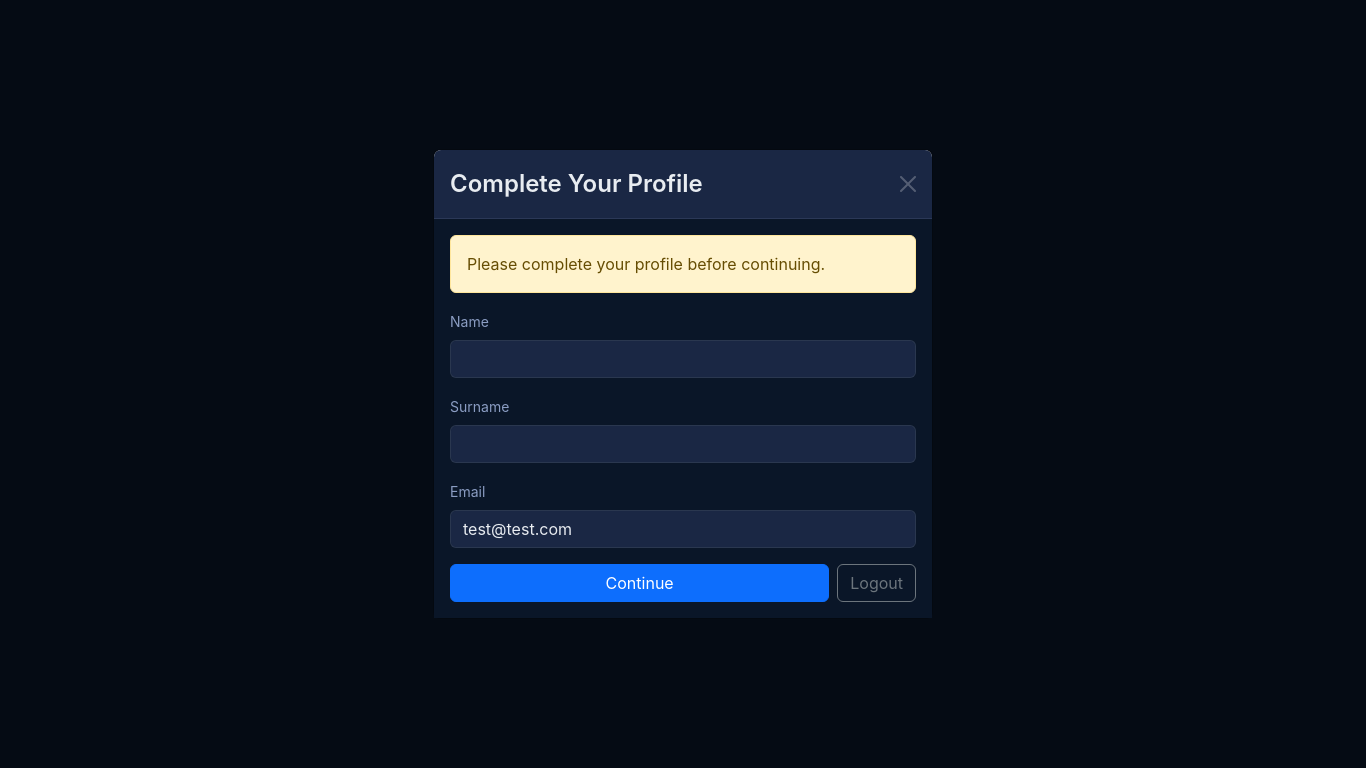
Test: AuthModal › completion mode › failed completion keeps modal open with error
Type "John" into the field labelled "Name". click: (683, 359)
box: top-left (450, 340), bottom-right (916, 378)
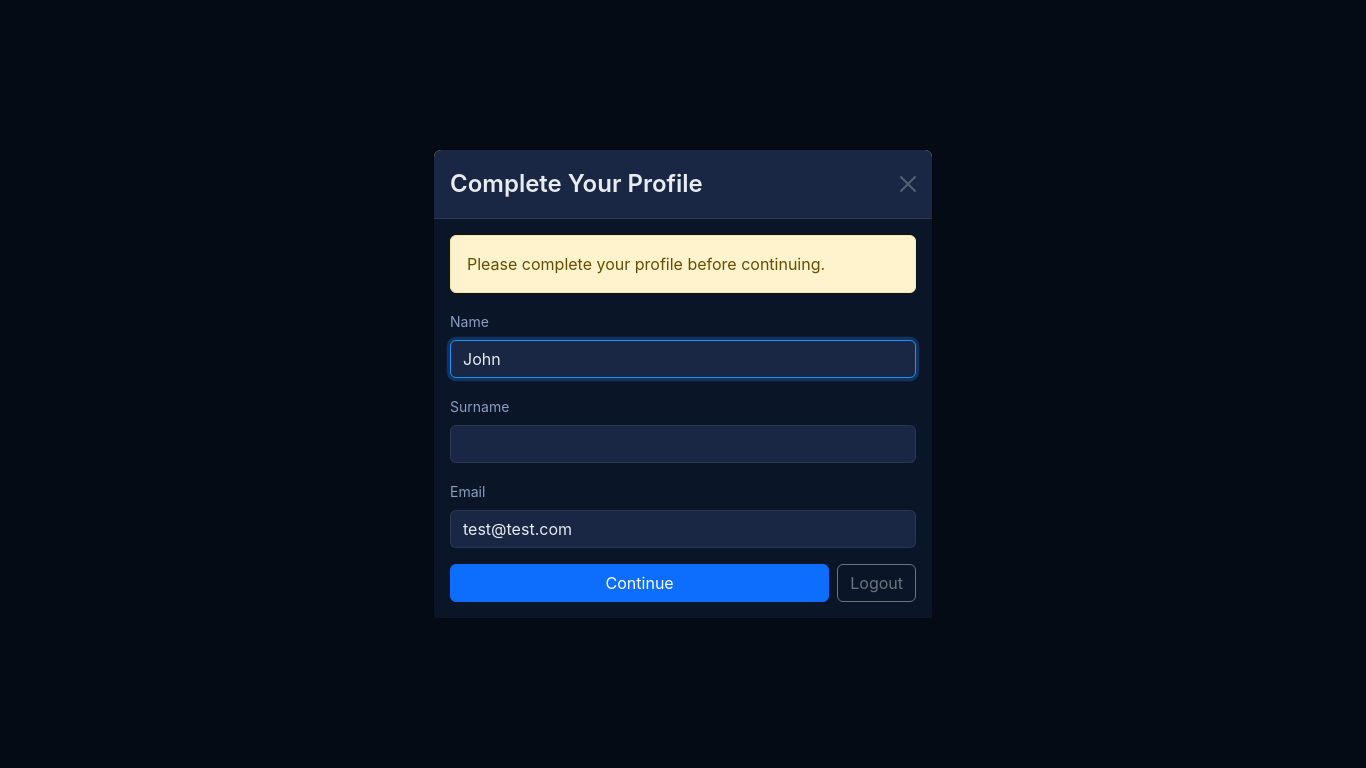
Type "Doe" into the field labelled "Surname". click: (683, 444)
box: top-left (450, 425), bottom-right (916, 463)
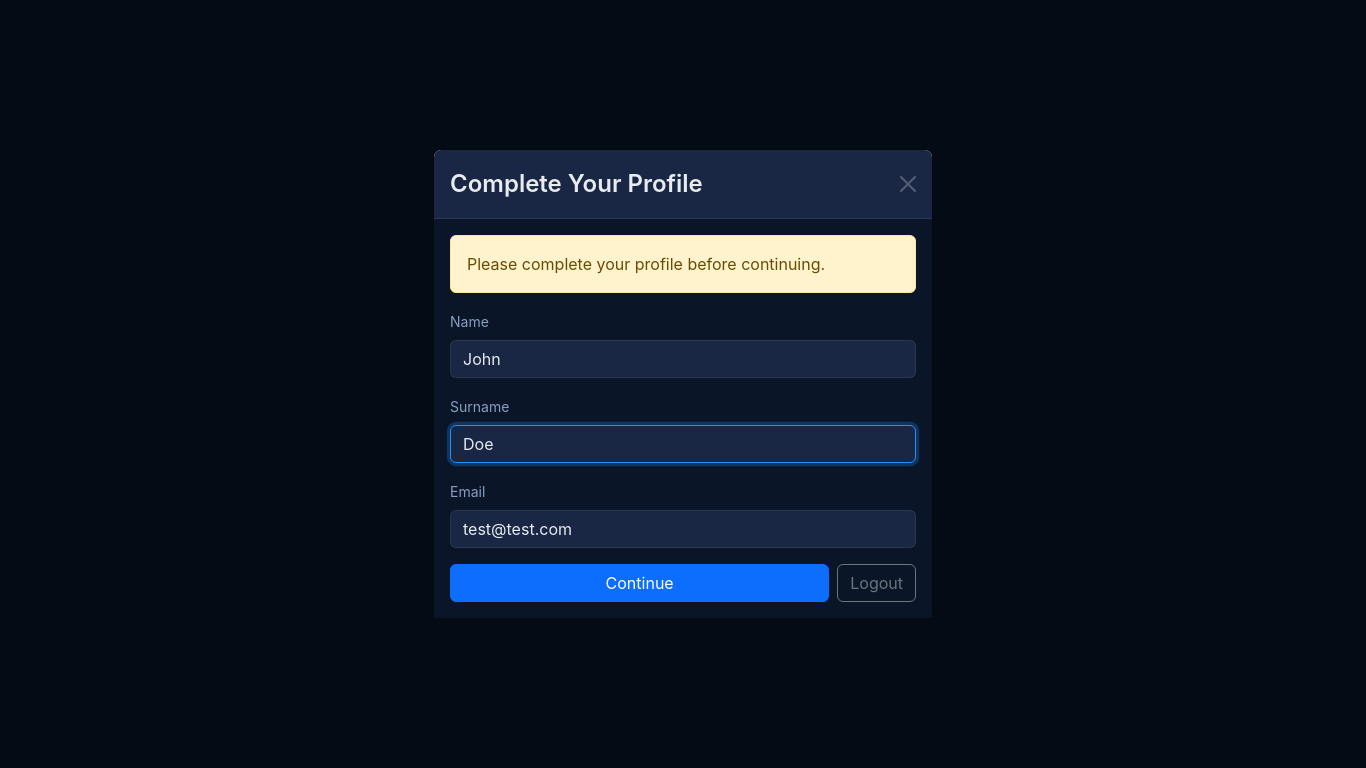
Click the button "Continue". click: (640, 583)
box: top-left (450, 564), bottom-right (829, 602)
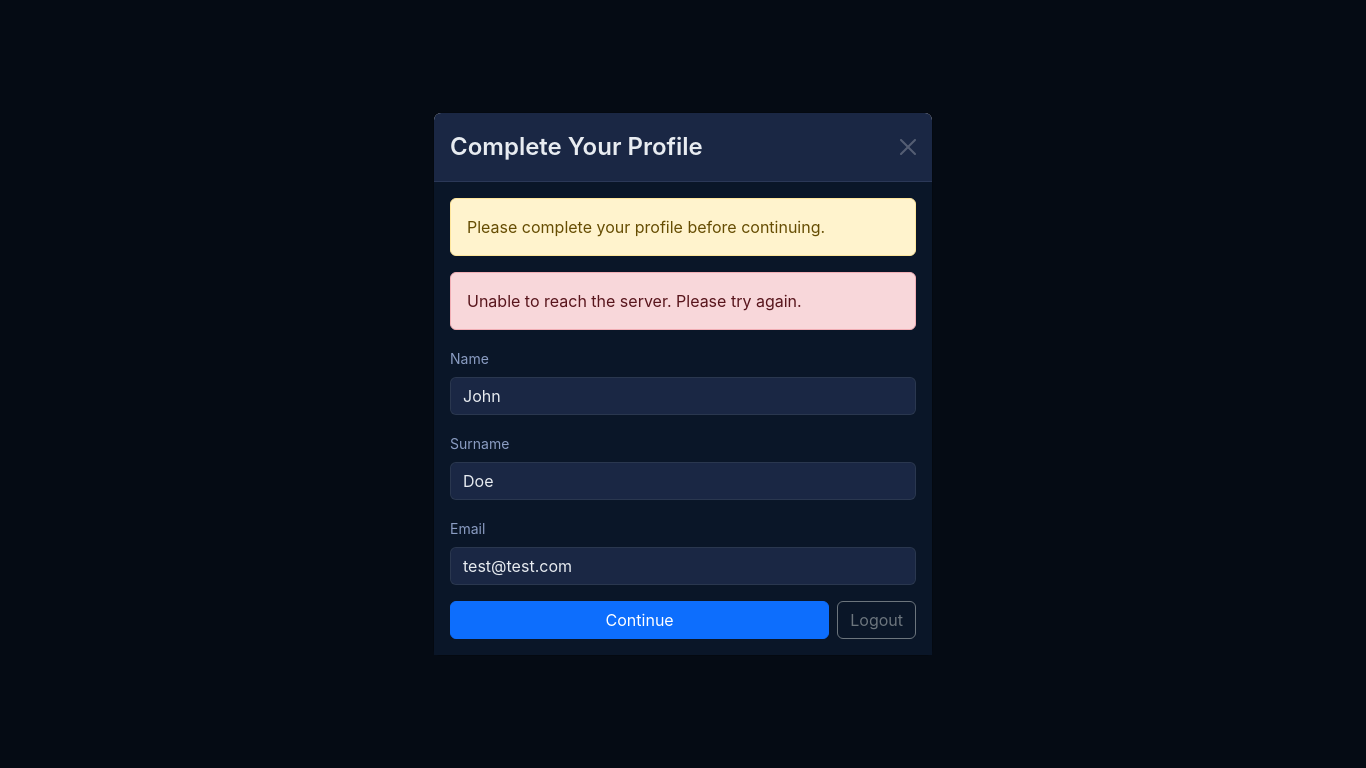
Expected: the text "Complete Your Profile" is shown, top-left (450, 129), bottom-right (703, 165)
Result: the text "Unable to reach the server. Please try again." is shown at top-left (450, 272), bottom-right (916, 330)
